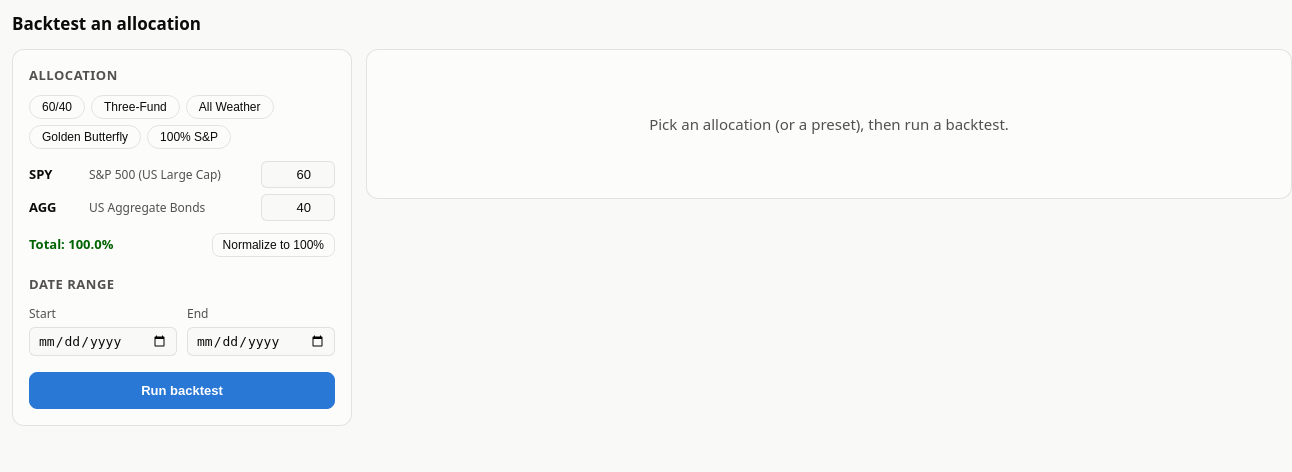
Test: Backtest › surfaces a server rejection
The image size is (1292, 472).
Expected: the text "Total: 100.0%" is shown, [29,235,113,255]
Click the button "Run backtest" at (182, 390), box [29,372,335,408]
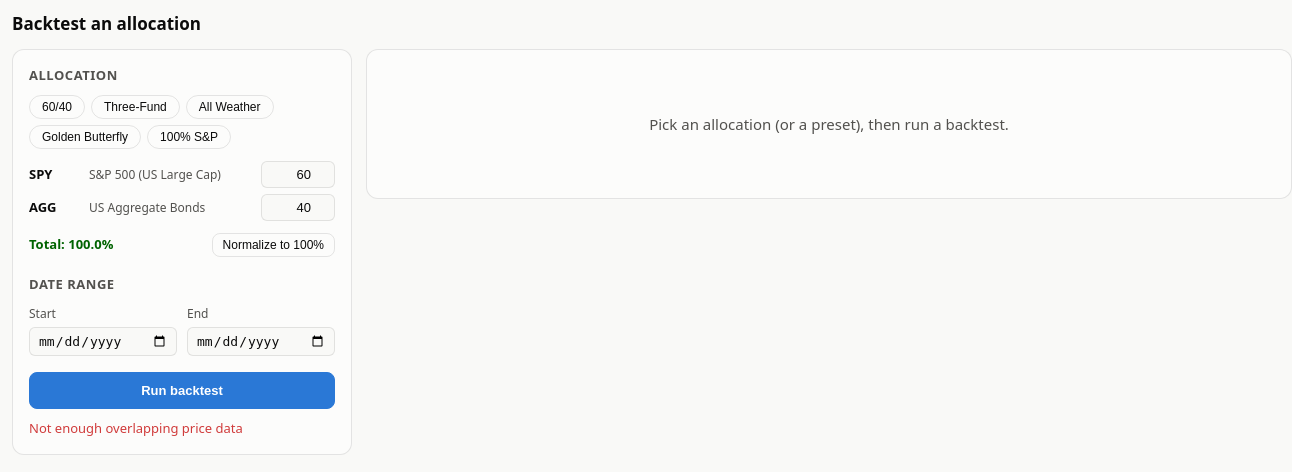
Expected: the text "Not enough overlapping price data" is shown, [29,418,243,436]
